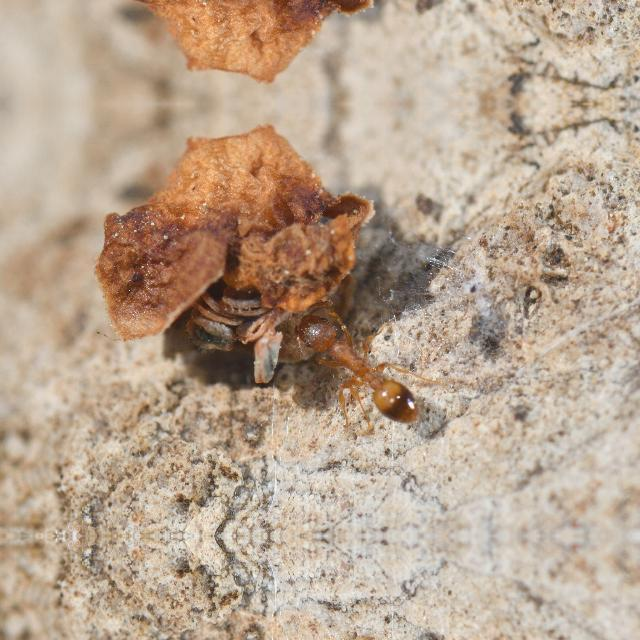Temnothorax: (280, 292, 440, 446)
